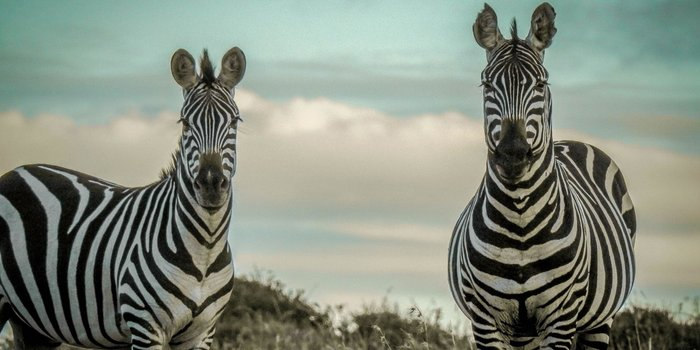Zebra: (1, 23, 291, 344), (441, 7, 664, 350)
